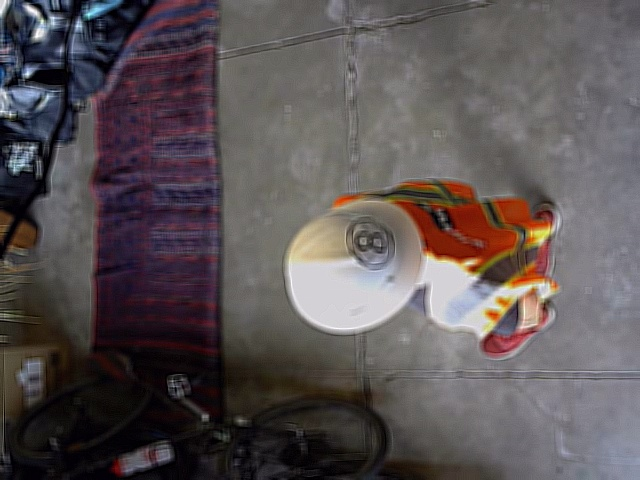eight: (346, 218, 392, 267)
